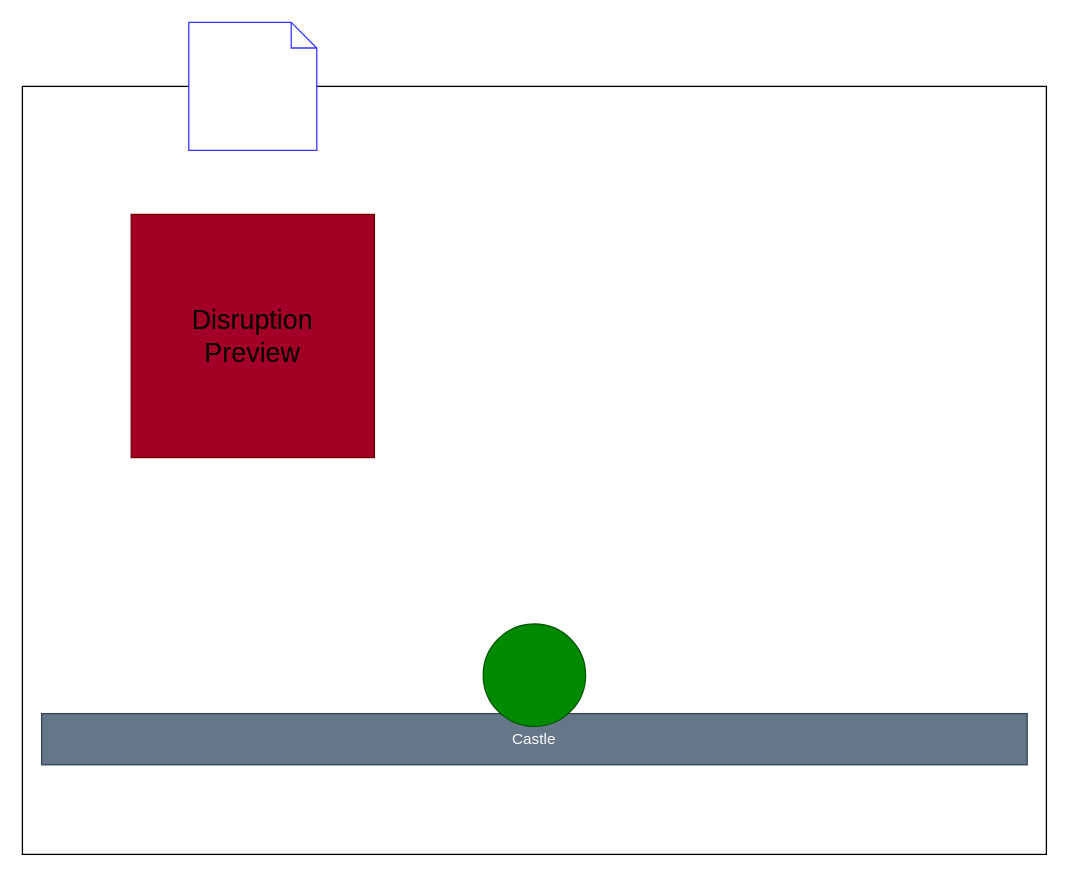
This 1069x877 diagram has some shape labels left out. Each missing label, with the centre of its shape:
"Blinks red" belongs at point (252, 85).
"Player" belongs at point (534, 674).
